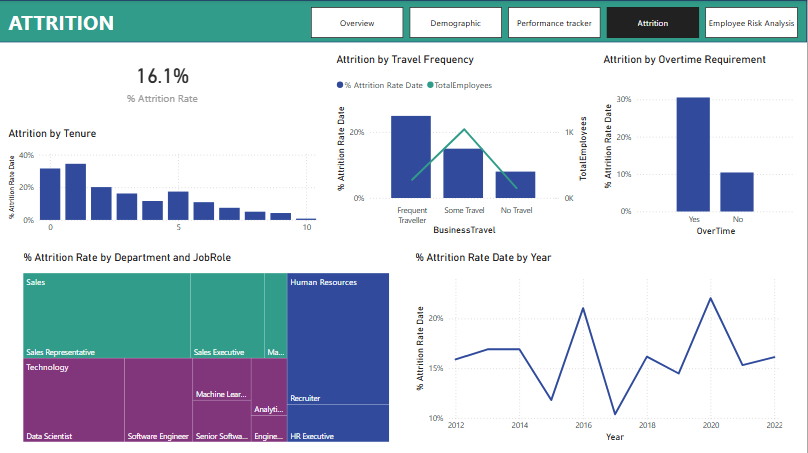

The page's visual inventory and layout, read from the dashboard file:
{"tool":"powerbi","page":{"name":"Attrition","canvas":[1280,720],"ordinal":3},"visuals":[{"type":"advanceCardE03760C5AB684758B56AA29F9E6C257B","fields":{"mainMeasure":["_Measure.% Attrition Rate"]},"box":[10.7,83.6,498,96.3],"z":0},{"type":"treemap","fields":{"Group":["DimEmployee.Department"],"Values":["_Measure.% Attrition Rate"],"Details":["DimEmployee.JobRole"]},"box":[34,396.8,589.4,307.4],"z":1000},{"type":"lineChart","fields":{"Y":["_Measure.% Attrition Rate Date"],"Category":["DimDate.Date.Variation.Date Hierarchy.Year","DimDate.Date.Variation.Date Hierarchy.Quarter","DimDate.Date.Variation.Date Hierarchy.Month","DimDate.Date.Variation.Date Hierarchy.Day"]},"box":[655.6,396.8,591.4,307.4],"z":2000},{"type":"lineStackedColumnComboChart","title":"Attrition by Travel Frequency","fields":{"Category":["DimEmployee.BusinessTravel"],"Y":["_Measure.% Attrition Rate Date"],"Y2":["_Measure.TotalEmployees"]},"box":[530.1,83.6,406.6,293.7],"z":3000},{"type":"columnChart","title":"Attrition by Overtime Requirement","fields":{"Category":["DimEmployee.OverTime"],"Y":["_Measure.% Attrition Rate Date"]},"box":[952.2,83.6,313.2,293.7],"z":4000},{"type":"columnChart","title":"Attrition by Tenure","fields":{"Category":["DimEmployee.YearsAtCompany"],"Y":["_Measure.% Attrition Rate Date"]},"box":[10.7,200.4,498,177],"z":5000},{"type":"shape","box":[0,0,1280,67.1],"z":6000},{"type":"textbox","box":[10.7,7.8,1269.3,52.5],"z":7000},{"type":"pageNavigator","box":[495.8,11,771.3,49.6],"z":8000}]}

Visuals, with their boxes in screenshot pixels (x1, y1, x2, y2), scaled from the page's 1280x720 canvas onto the 808x453 screenshot:
advanceCardE03760C5AB684758B56AA29F9E6C257B - _Measure.% Attrition Rate: pyautogui.locateOnScreen(7, 53, 321, 113)
treemap - DimEmployee.Department x _Measure.% Attrition Rate: pyautogui.locateOnScreen(21, 250, 394, 443)
lineChart - _Measure.% Attrition Rate Date x DimDate.Date.Variation.Date Hierarchy.Year: pyautogui.locateOnScreen(414, 250, 787, 443)
"Attrition by Travel Frequency" lineStackedColumnComboChart: pyautogui.locateOnScreen(335, 53, 591, 237)
"Attrition by Overtime Requirement" columnChart: pyautogui.locateOnScreen(601, 53, 799, 237)
"Attrition by Tenure" columnChart: pyautogui.locateOnScreen(7, 126, 321, 237)
shape: pyautogui.locateOnScreen(0, 0, 807, 42)
textbox: pyautogui.locateOnScreen(7, 5, 807, 38)
pageNavigator: pyautogui.locateOnScreen(313, 7, 800, 38)
